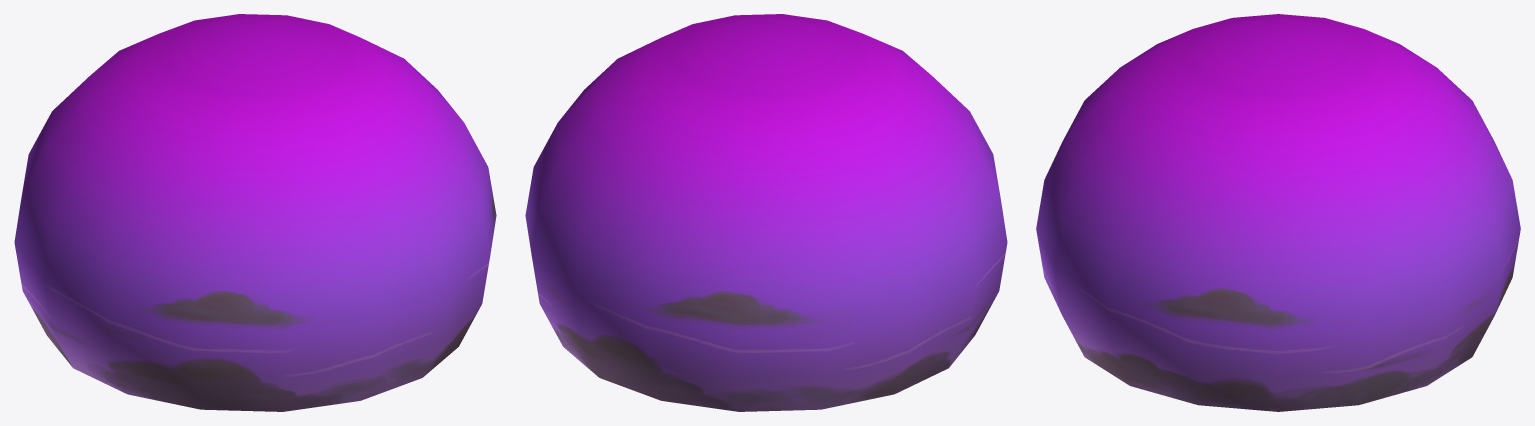
Rendered from dome.fbx.
The picture shows the model from 3 angles, left to right: view 1: azimuth 30°, elevation 25°; view 2: azimuth 150°, elevation 25°; view 3: azimuth 270°, elevation 25°; orthographic projection.
Visible parts, largest first — view 1: sky; view 2: sky; view 3: sky.
Part boxes in pixels (left/top/right/bottom): sky: left=14, top=14, right=496, bottom=411; sky: left=525, top=14, right=1007, bottom=411; sky: left=1036, top=14, right=1520, bottom=411.
Size of the model in its own units: 1200 by 774 by 1200.
